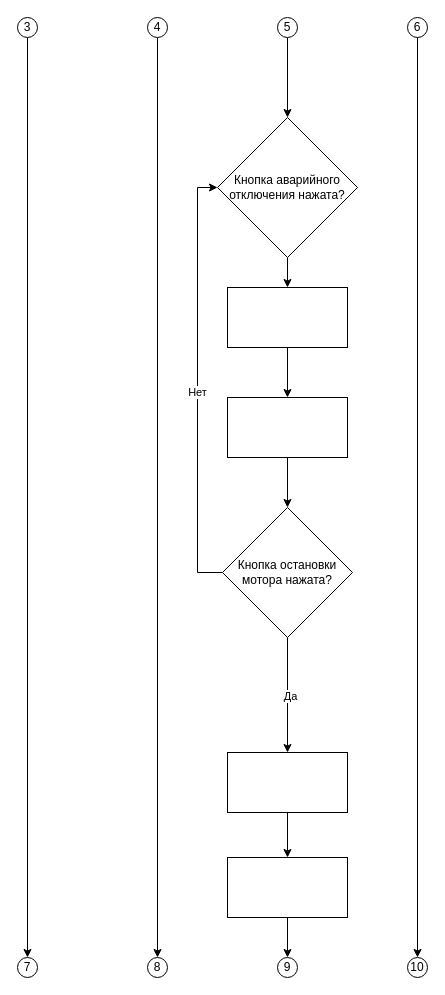
The diagram is 445 pixels wide and 995 high, and some of its shapes have lost their labels. The shapes that lost their labels are listed below. From the top down, each one's centre as x and y in pixels, then its label:
point 287,317: Мигание лампочки белым светом
point 287,427: Прокрутка мотора на оборот для открытия створки
point 287,782: Включение зелёной лампочки светодиодом
point 287,887: Снятие показаний с датчика расстояния
